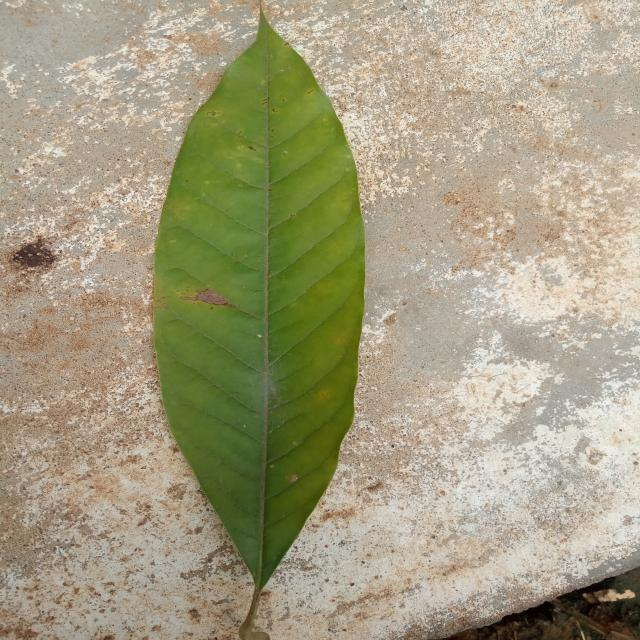coffee: (153, 14, 365, 589)
